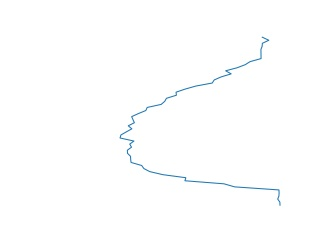underwaterDistributaryChannel: (116, 34, 288, 206)
